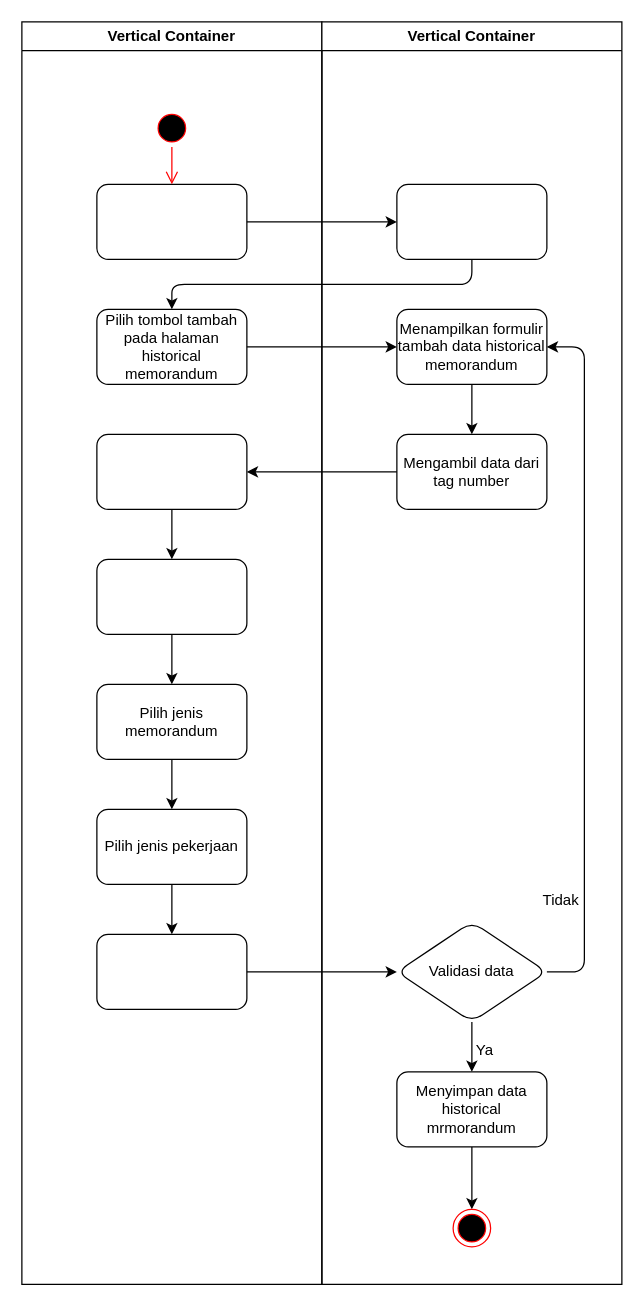
The diagram is 644 pixels wide and 1306 high, and some of its shapes have lost their labels. The shapes that lost their labels are listed below. From the top down, each one's centre as x and y in pixels, then its label:
At [171,221]: "Membuka halaman historical memorandum".
At [471,221]: "Menampilkan halaman historical memorandum".
At [171,471]: "Pilih tag number".
At [171,596]: "Masukkan judul memorandum".
At [171,971]: "Unggah dokumen memorandum".
